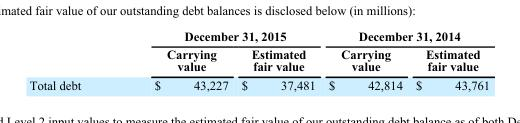table: (28, 28, 489, 92)
table column: (116, 28, 234, 92), (28, 28, 116, 92), (234, 28, 321, 92), (321, 28, 408, 92), (408, 28, 489, 92)
table column header: (28, 28, 489, 75)
table row: (28, 44, 489, 75), (28, 75, 489, 92), (28, 28, 489, 44)
table spanning cell: (116, 28, 321, 44), (321, 28, 489, 44)
